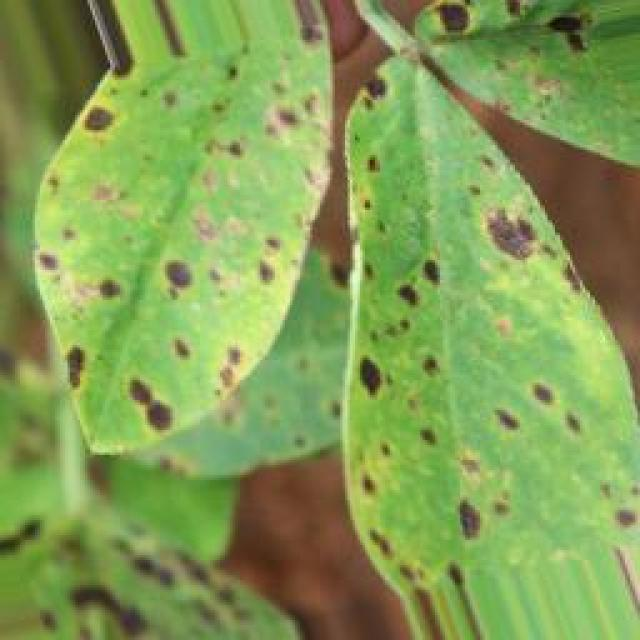Yellowish: (30, 18, 617, 556)
